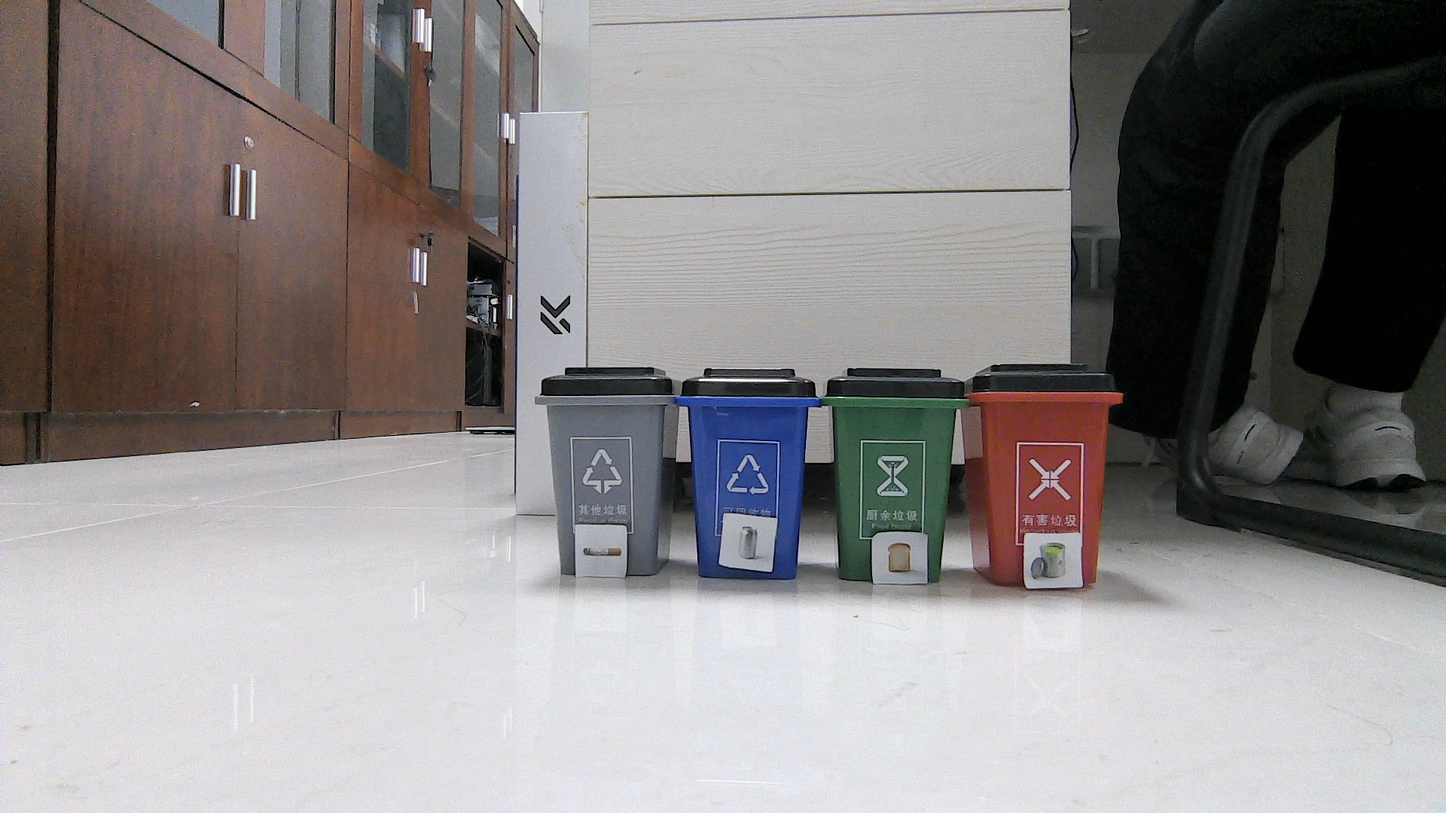food_trash: (877, 536, 923, 579)
hazardous_trash: (1027, 536, 1076, 584)
other_trash: (577, 526, 625, 575)
recyclable_trash: (726, 517, 770, 566)
